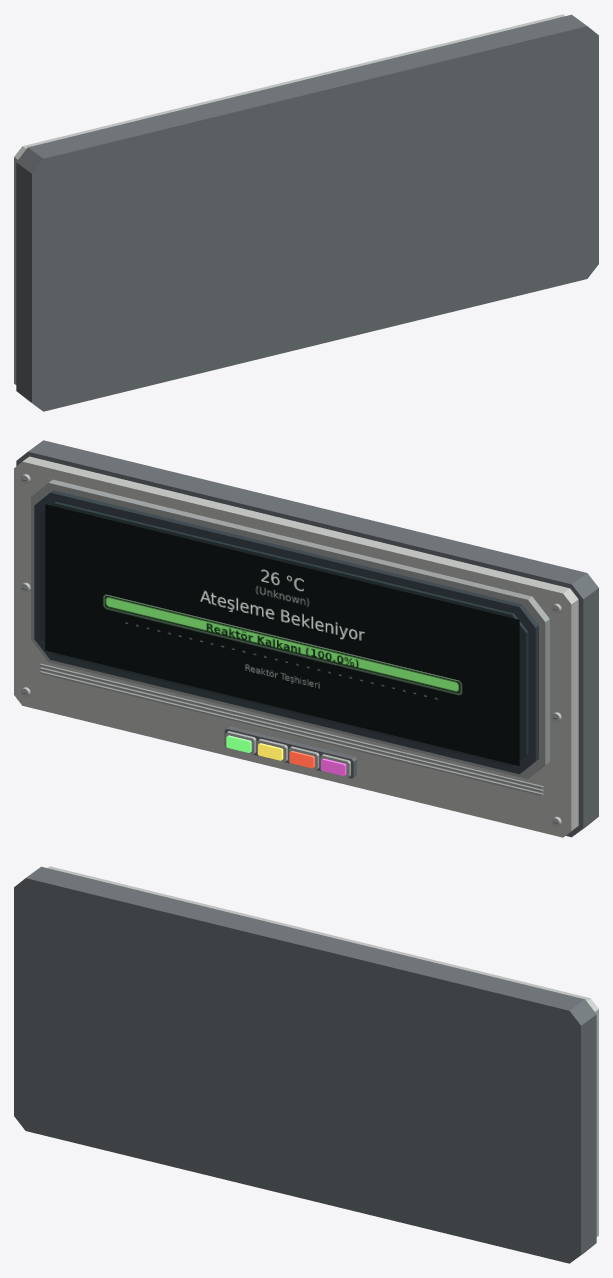
The model's file is REAKTOR_DURUM_EKRANI_01_ADAY.glb.
The picture shows the model from 3 angles, top to bottom: view 1: azimuth 30°, elevation 25°; view 2: azimuth 150°, elevation 25°; view 3: azimuth 330°, elevation 25°; orthographic projection.
Parts seen in each view (by area): view 1: Outer_backplate, Painted_instrument_body; view 2: Display_textured_face, Painted_instrument_body, Outer_backplate, Display_black_bezel, Display_outer_lip, Recessed_display_glass, Lower_service_channel_0, Lower_service_channel_1, Lower_service_channel_2, Operating_mode_frame; view 3: Outer_backplate, Painted_instrument_body.
Boxes of the visible parts, box(x1,y1,x2,y2) form: Outer_backplate: box(16, 14, 598, 411); Painted_instrument_body: box(14, 14, 565, 384); Display_textured_face: box(45, 504, 519, 765); Painted_instrument_body: box(14, 456, 578, 837); Outer_backplate: box(16, 440, 598, 837); Display_black_bezel: box(34, 490, 538, 774); Display_outer_lip: box(31, 479, 549, 778); Recessed_display_glass: box(39, 502, 528, 766); Lower_service_channel_0: box(39, 671, 543, 796); Lower_service_channel_1: box(39, 667, 543, 792); Lower_service_channel_2: box(39, 663, 543, 788); Operating_mode_frame: box(224, 726, 356, 778); Outer_backplate: box(14, 866, 596, 1263); Painted_instrument_body: box(47, 866, 598, 1236).
Bounding box in the file's own units: 8.8 × 3.75 × 0.884.
11 materials, 1 textured.
